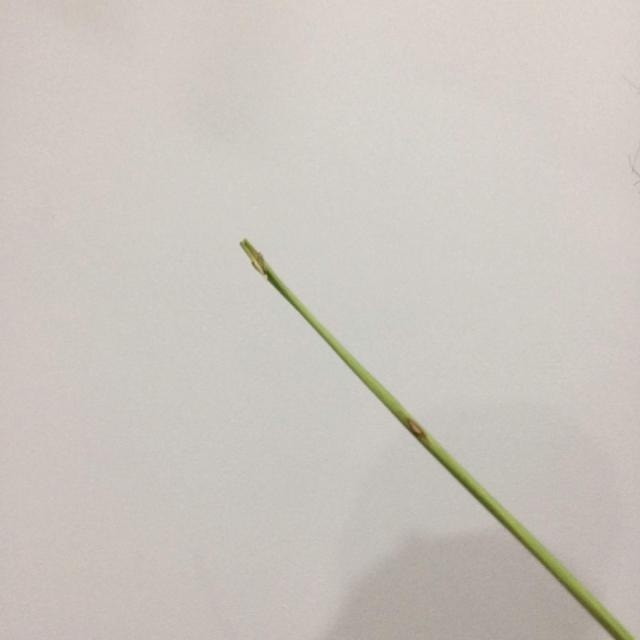Blast: (402, 419, 428, 437)
